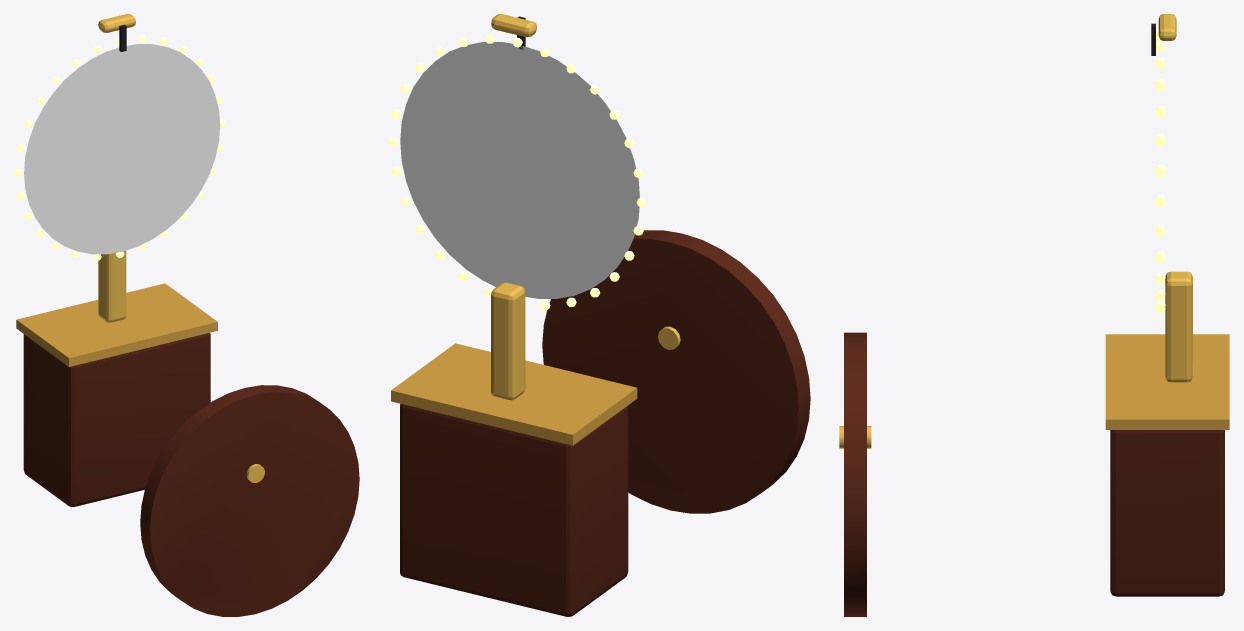
Rendered from big-six.glb.
3 renders of one model, left to right at view 1: azimuth 30°, elevation 25°; view 2: azimuth 150°, elevation 25°; view 3: azimuth 270°, elevation 25°, orthographic. The views are drawn at different scales.
Visible parts, largest first — view 1: big-six_lod0; view 2: big-six_lod0; view 3: big-six_lod0.
Boxes of the visible parts, x1,y1,x2,y2 form: big-six_lod0: [14, 14, 359, 616]; big-six_lod0: [388, 14, 810, 616]; big-six_lod0: [839, 14, 1229, 616].
Size of what is drawn, in the model's own units: 1.24 by 2.8 by 1.7.
